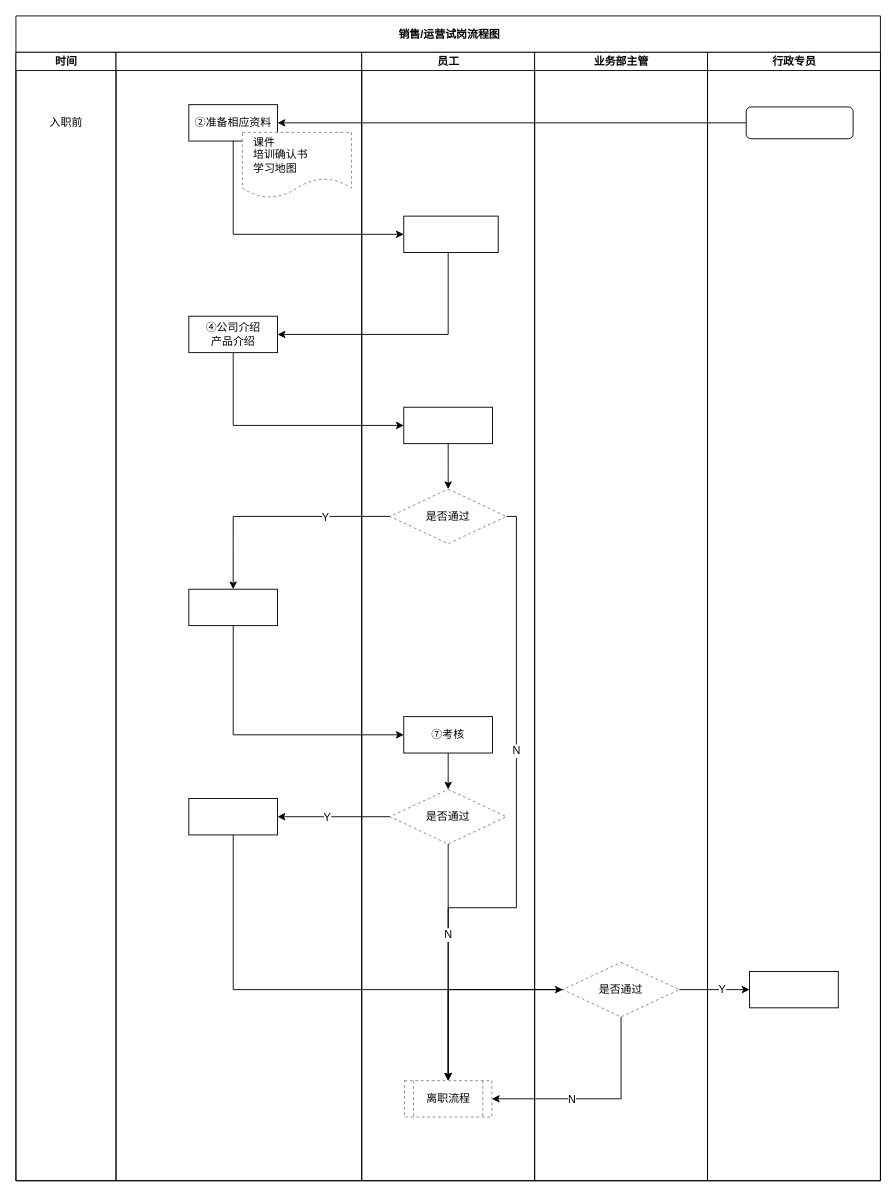
Image size: 896x1197. Some labels were removed from this diagram. The box of each missing label's shape, as (x1, y1, x2, y2) in pixels:
① 发送试岗入职通知: (745, 106, 853, 139)
③签署培训确认书 接收学习地图: (403, 215, 498, 253)
⑤考核: (403, 406, 492, 444)
⑥业务培训: (188, 588, 278, 626)
⑧汇总成绩 告知部门主管: (188, 798, 278, 835)
培训专员: (115, 51, 362, 1181)
正式入职 签订合同: (749, 971, 838, 1008)
